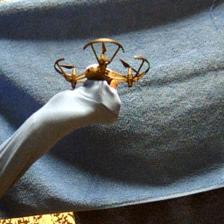drone: (55, 38, 150, 96)
